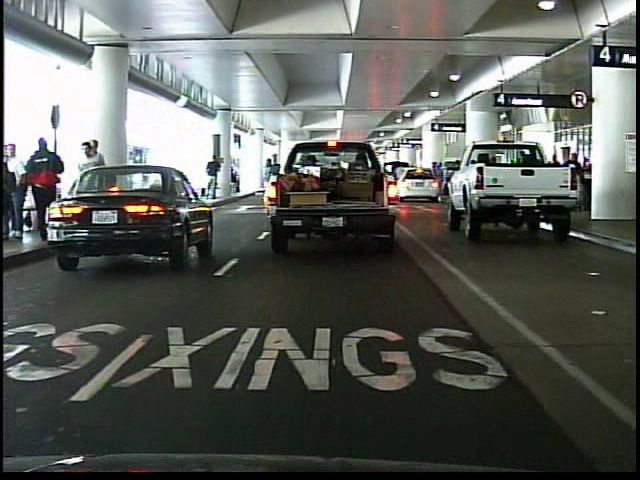person: (22, 135, 67, 244)
